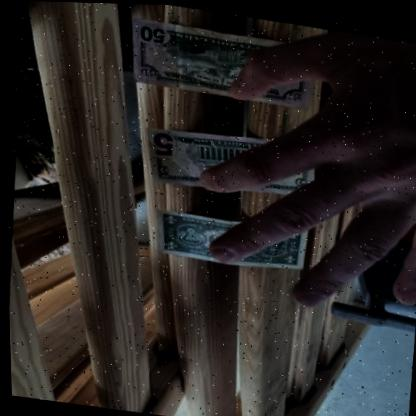fifty-back: (130, 15, 311, 105)
five-back: (144, 124, 311, 192)
one-back: (152, 206, 305, 264)
